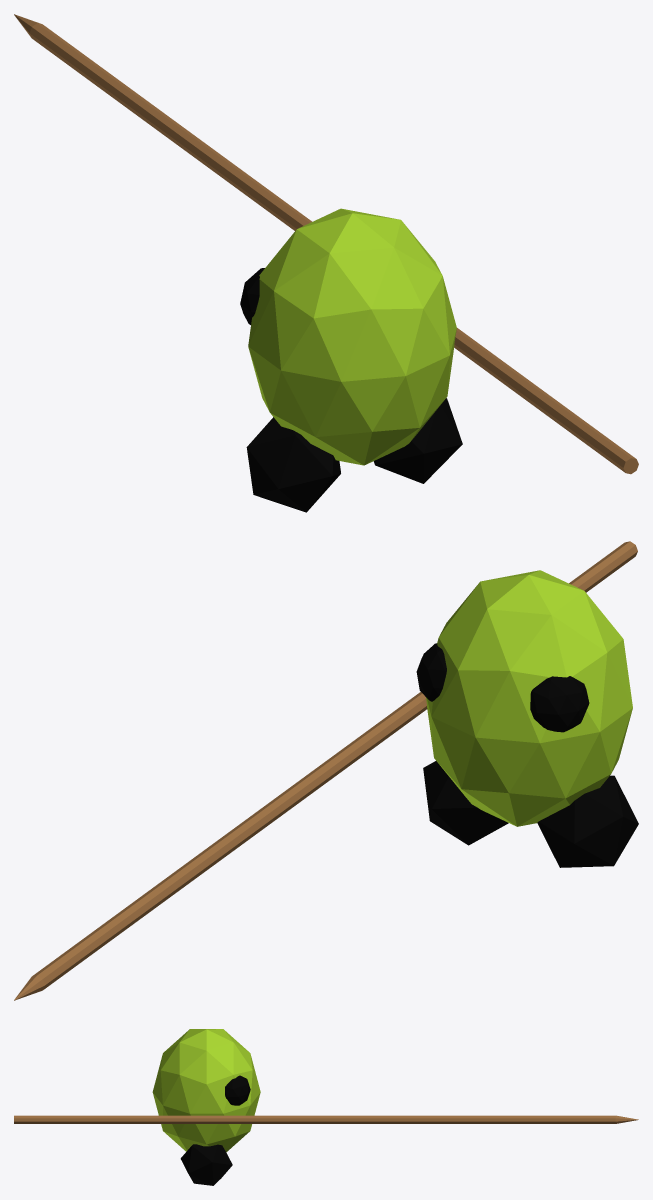
Rendered from stab.f0007.glb.
The picture shows the model from 3 angles, top to bottom: view 1: azimuth 30°, elevation 25°; view 2: azimuth 150°, elevation 25°; view 3: azimuth 270°, elevation 25°; orthographic projection. The views are drawn at different scales.
Parts seen in each view (by area): view 1: Body.001; view 2: Body.001; view 3: Body.001.
Part boxes in pixels (box(x1,y1,x2,y2)): Body.001: box(14, 14, 638, 512); Body.001: box(14, 541, 638, 1000); Body.001: box(14, 1029, 638, 1185).
Size of the model in its own units: 2.17 by 2.85 by 11.56.
Materials: 1 (1 with a texture image).
